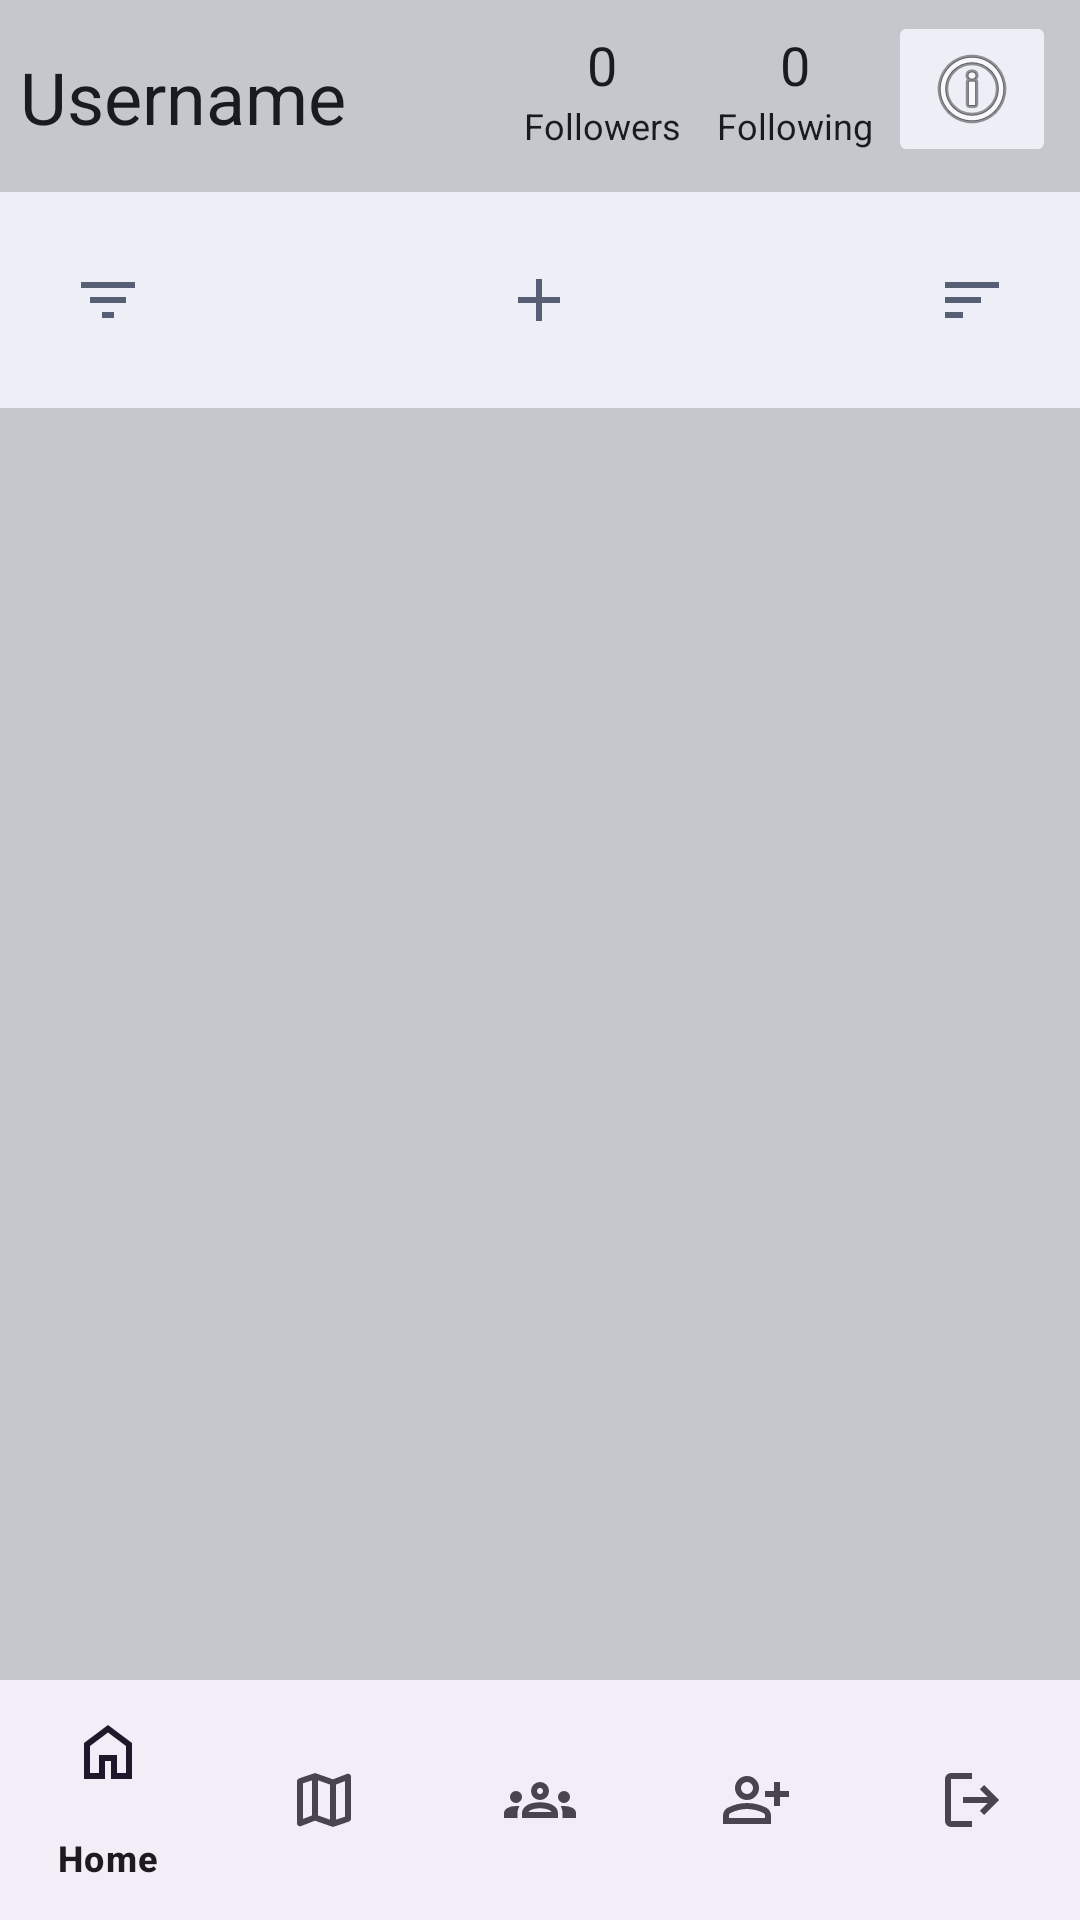

Locate icon controls on the screen. Image size 1080 × 1920, boxes as (x1, y1, x2, y2).
Add a Mood: (518, 279, 560, 321)
Filter Mood List: (81, 282, 135, 318)
info details: (900, 29, 1044, 149)
Sort Mood List: (945, 282, 999, 318)
